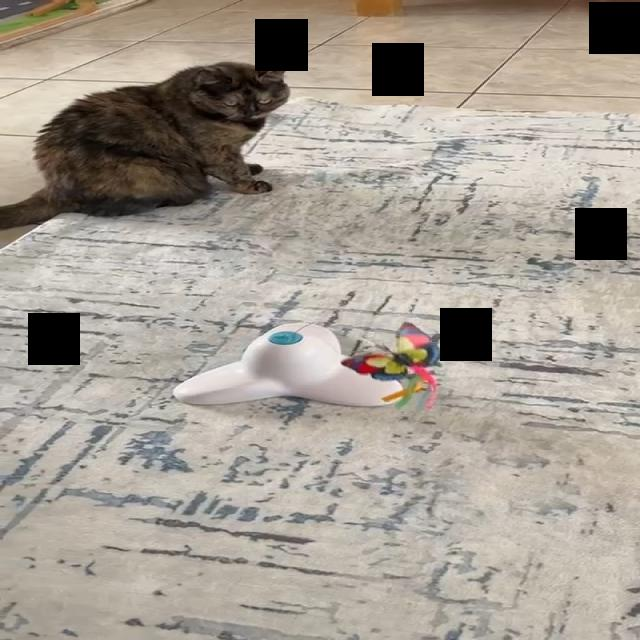authorized: (0, 61, 291, 230)
